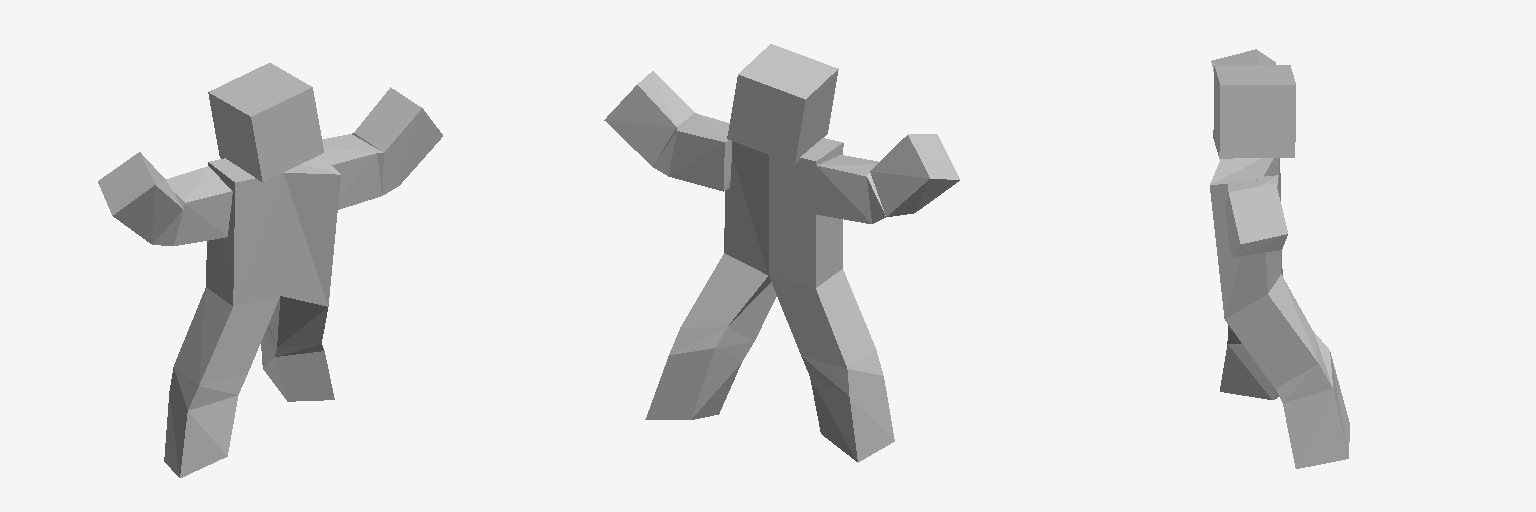
The model's file is human.obj.
3 views of the same model, side by side, from view 1: azimuth 30°, elevation 25°; view 2: azimuth 150°, elevation 25°; view 3: azimuth 270°, elevation 25° (orthographic).
Bounding box in the file's own units: 2.96 × 3.1 × 1.07.